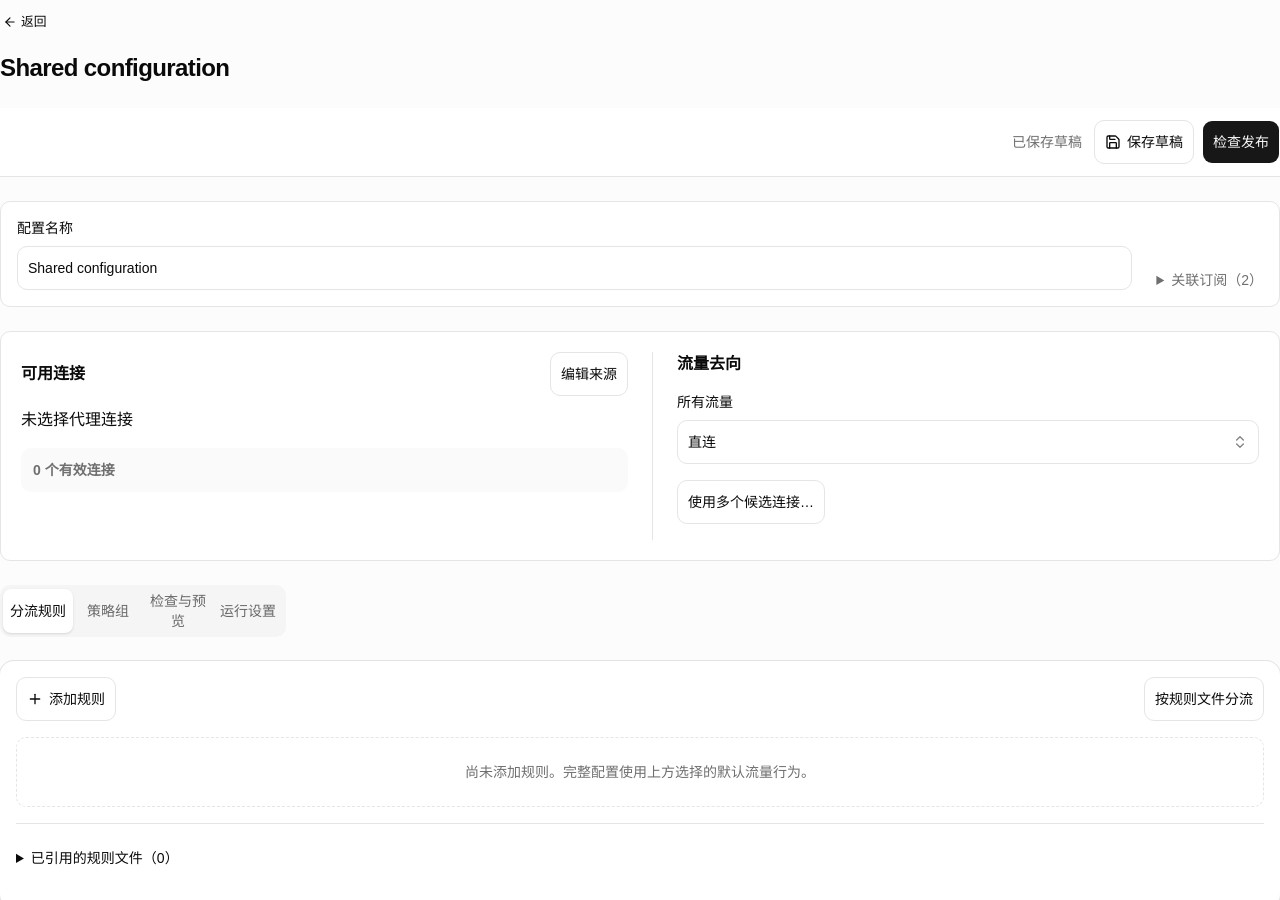
Scenario: updates only the chosen link regardless of entry binding (false)
Click the button "检查发布": (1241, 142) [1202,120,1279,164]
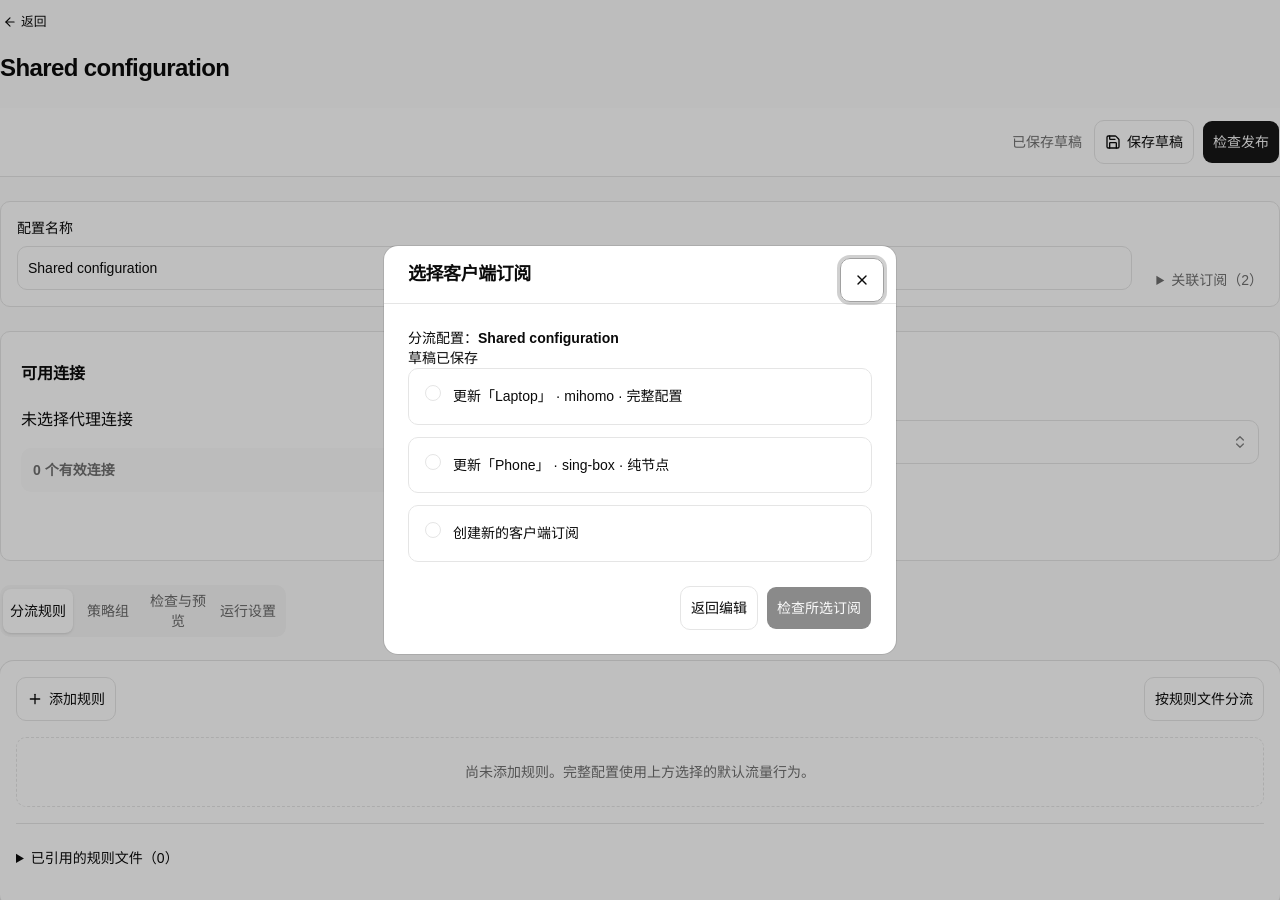
Click the radio button named "更新「Phone」" in the row of "Phone": (433, 462) [425,454,441,470]
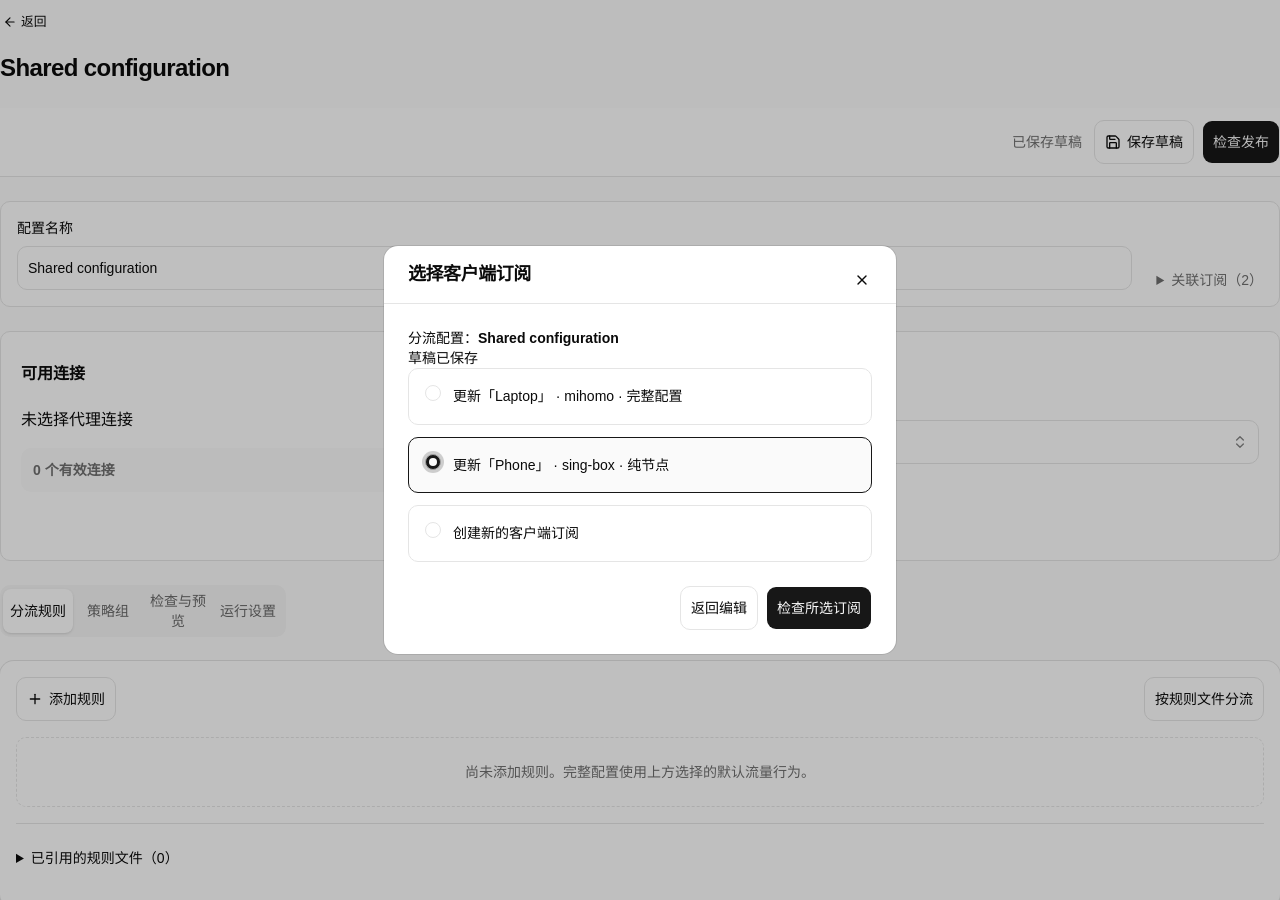
Click the button "检查所选订阅": (819, 608) [766,586,872,630]
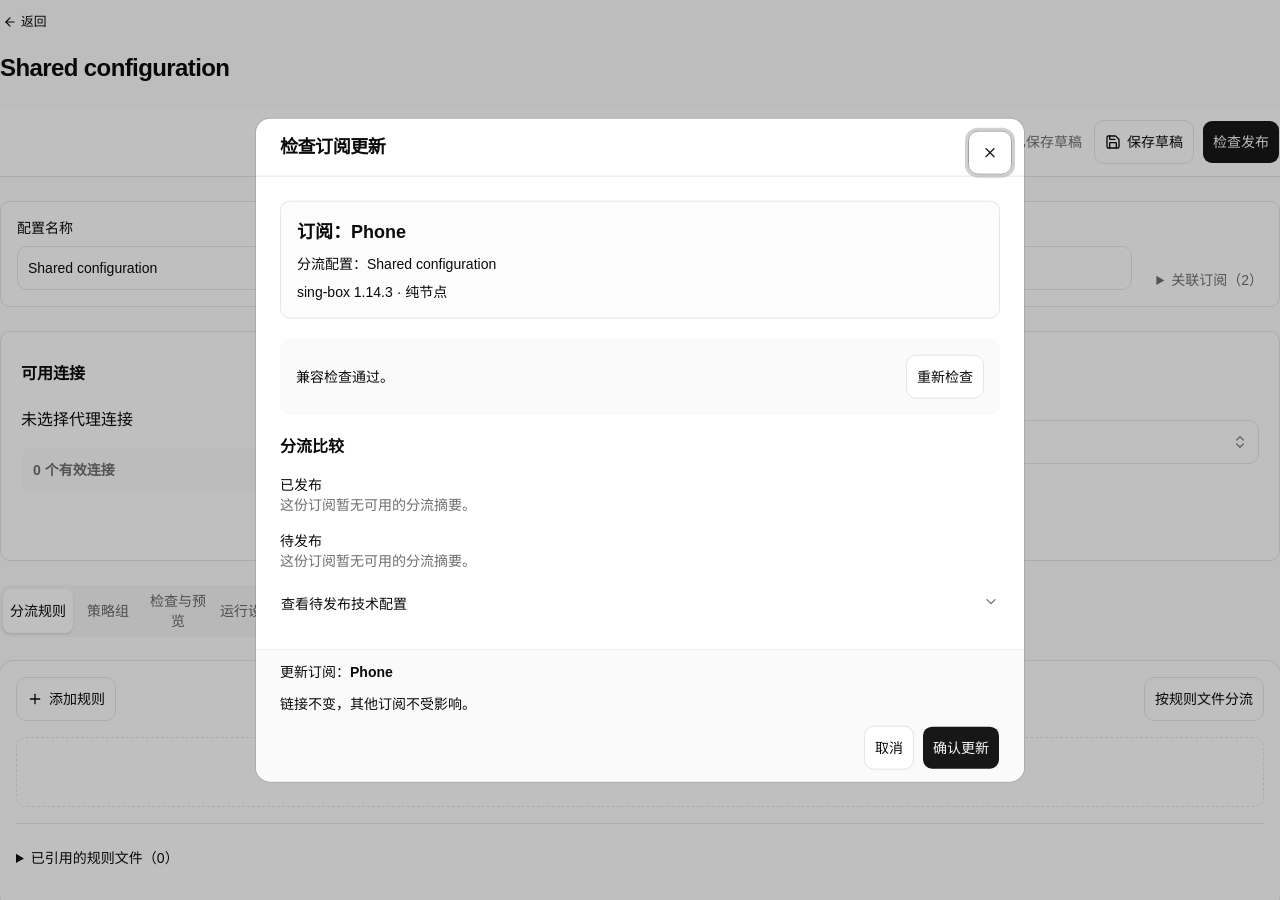
Click the button "查看待发布技术配置": (344, 603) [280,582,1000,624]
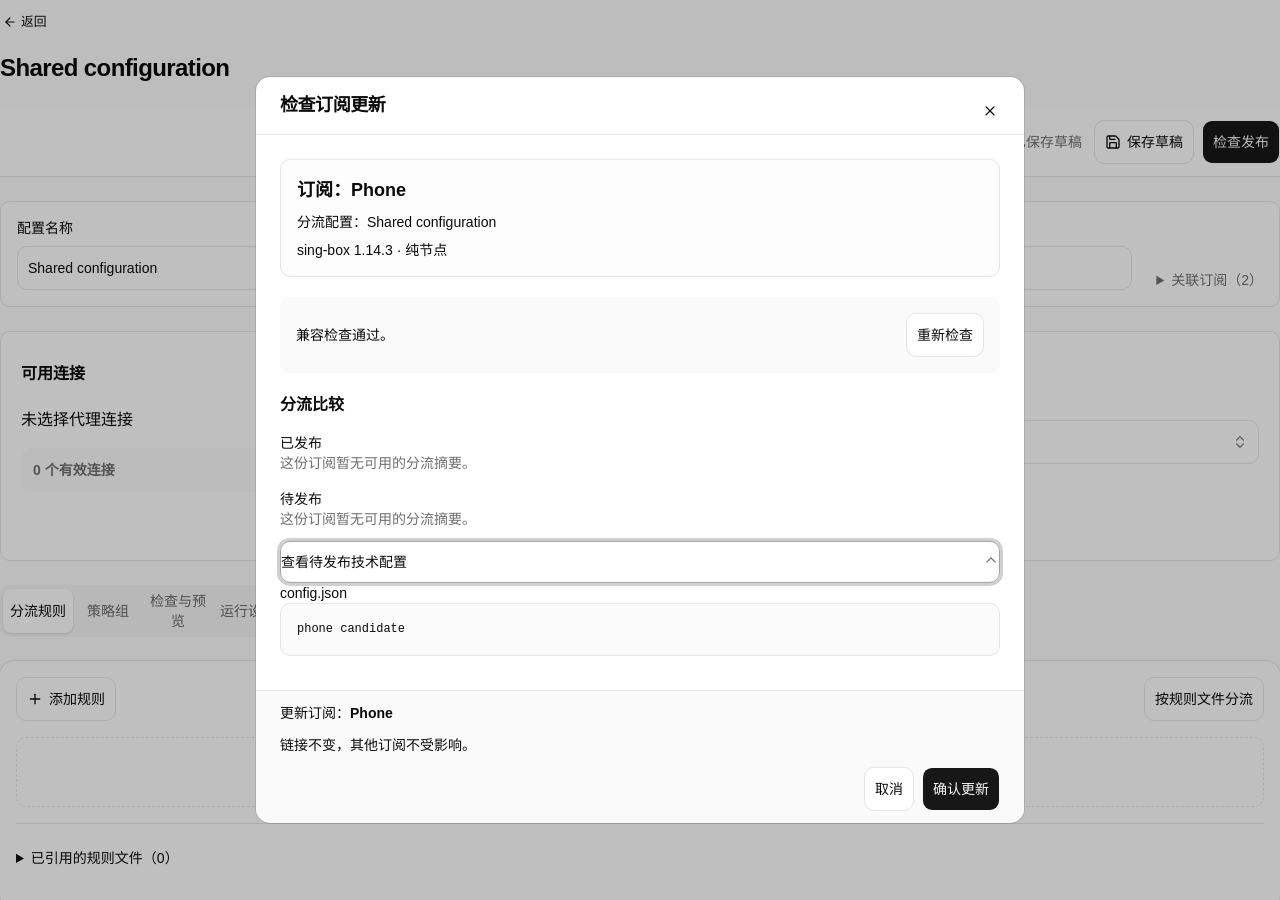
Now the dialog named "检查订阅更新「Phone」" shows "sing-box", box [297,242,350,258]
Now the dialog named "检查订阅更新「Phone」" shows "纯节点", box [405,242,447,258]
Now the text "phone candidate" is shown, box [280,603,1000,656]
Click the button with aria-label "确认更新「Phone」": (961, 789) [922,767,1000,811]
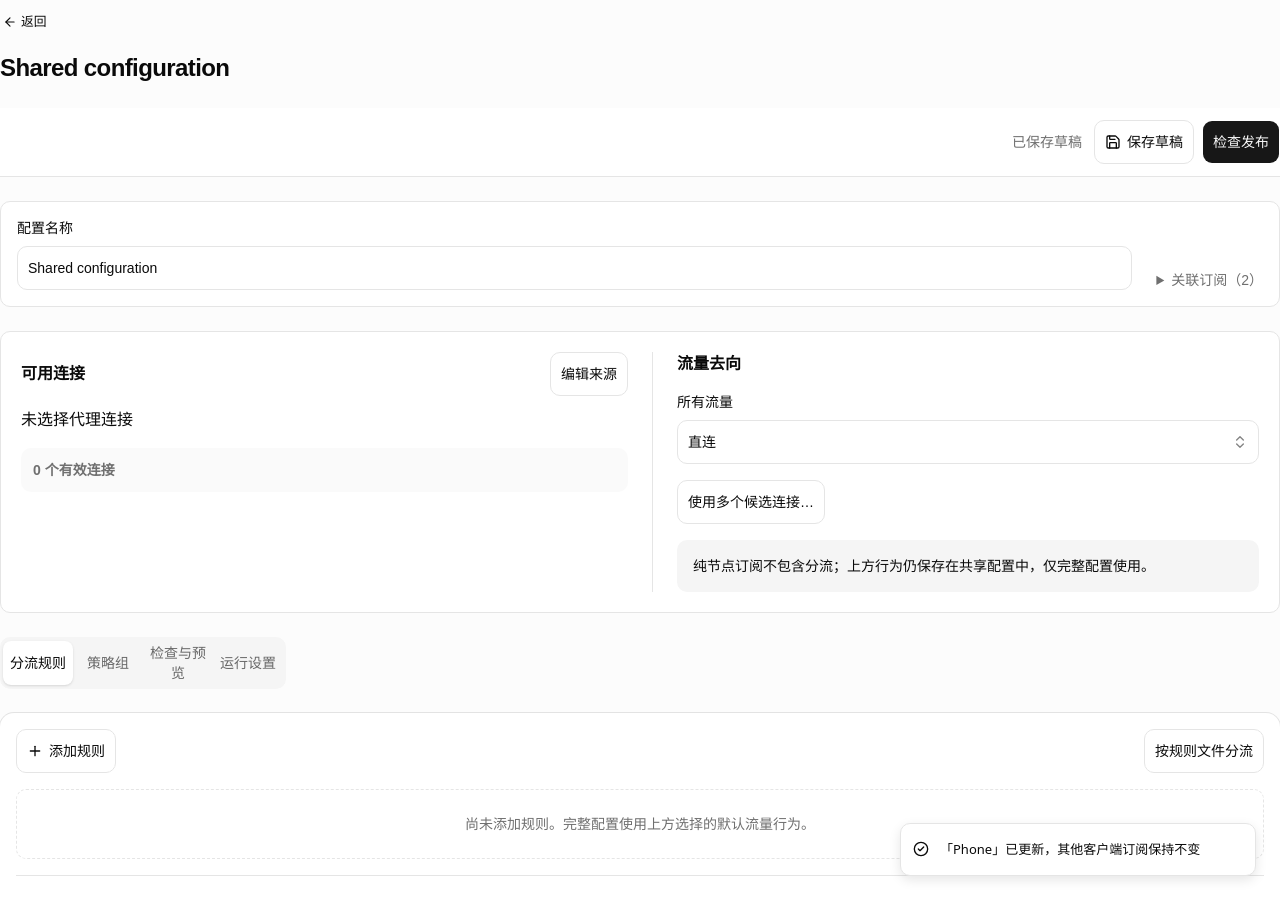
Now the dialog is gone
